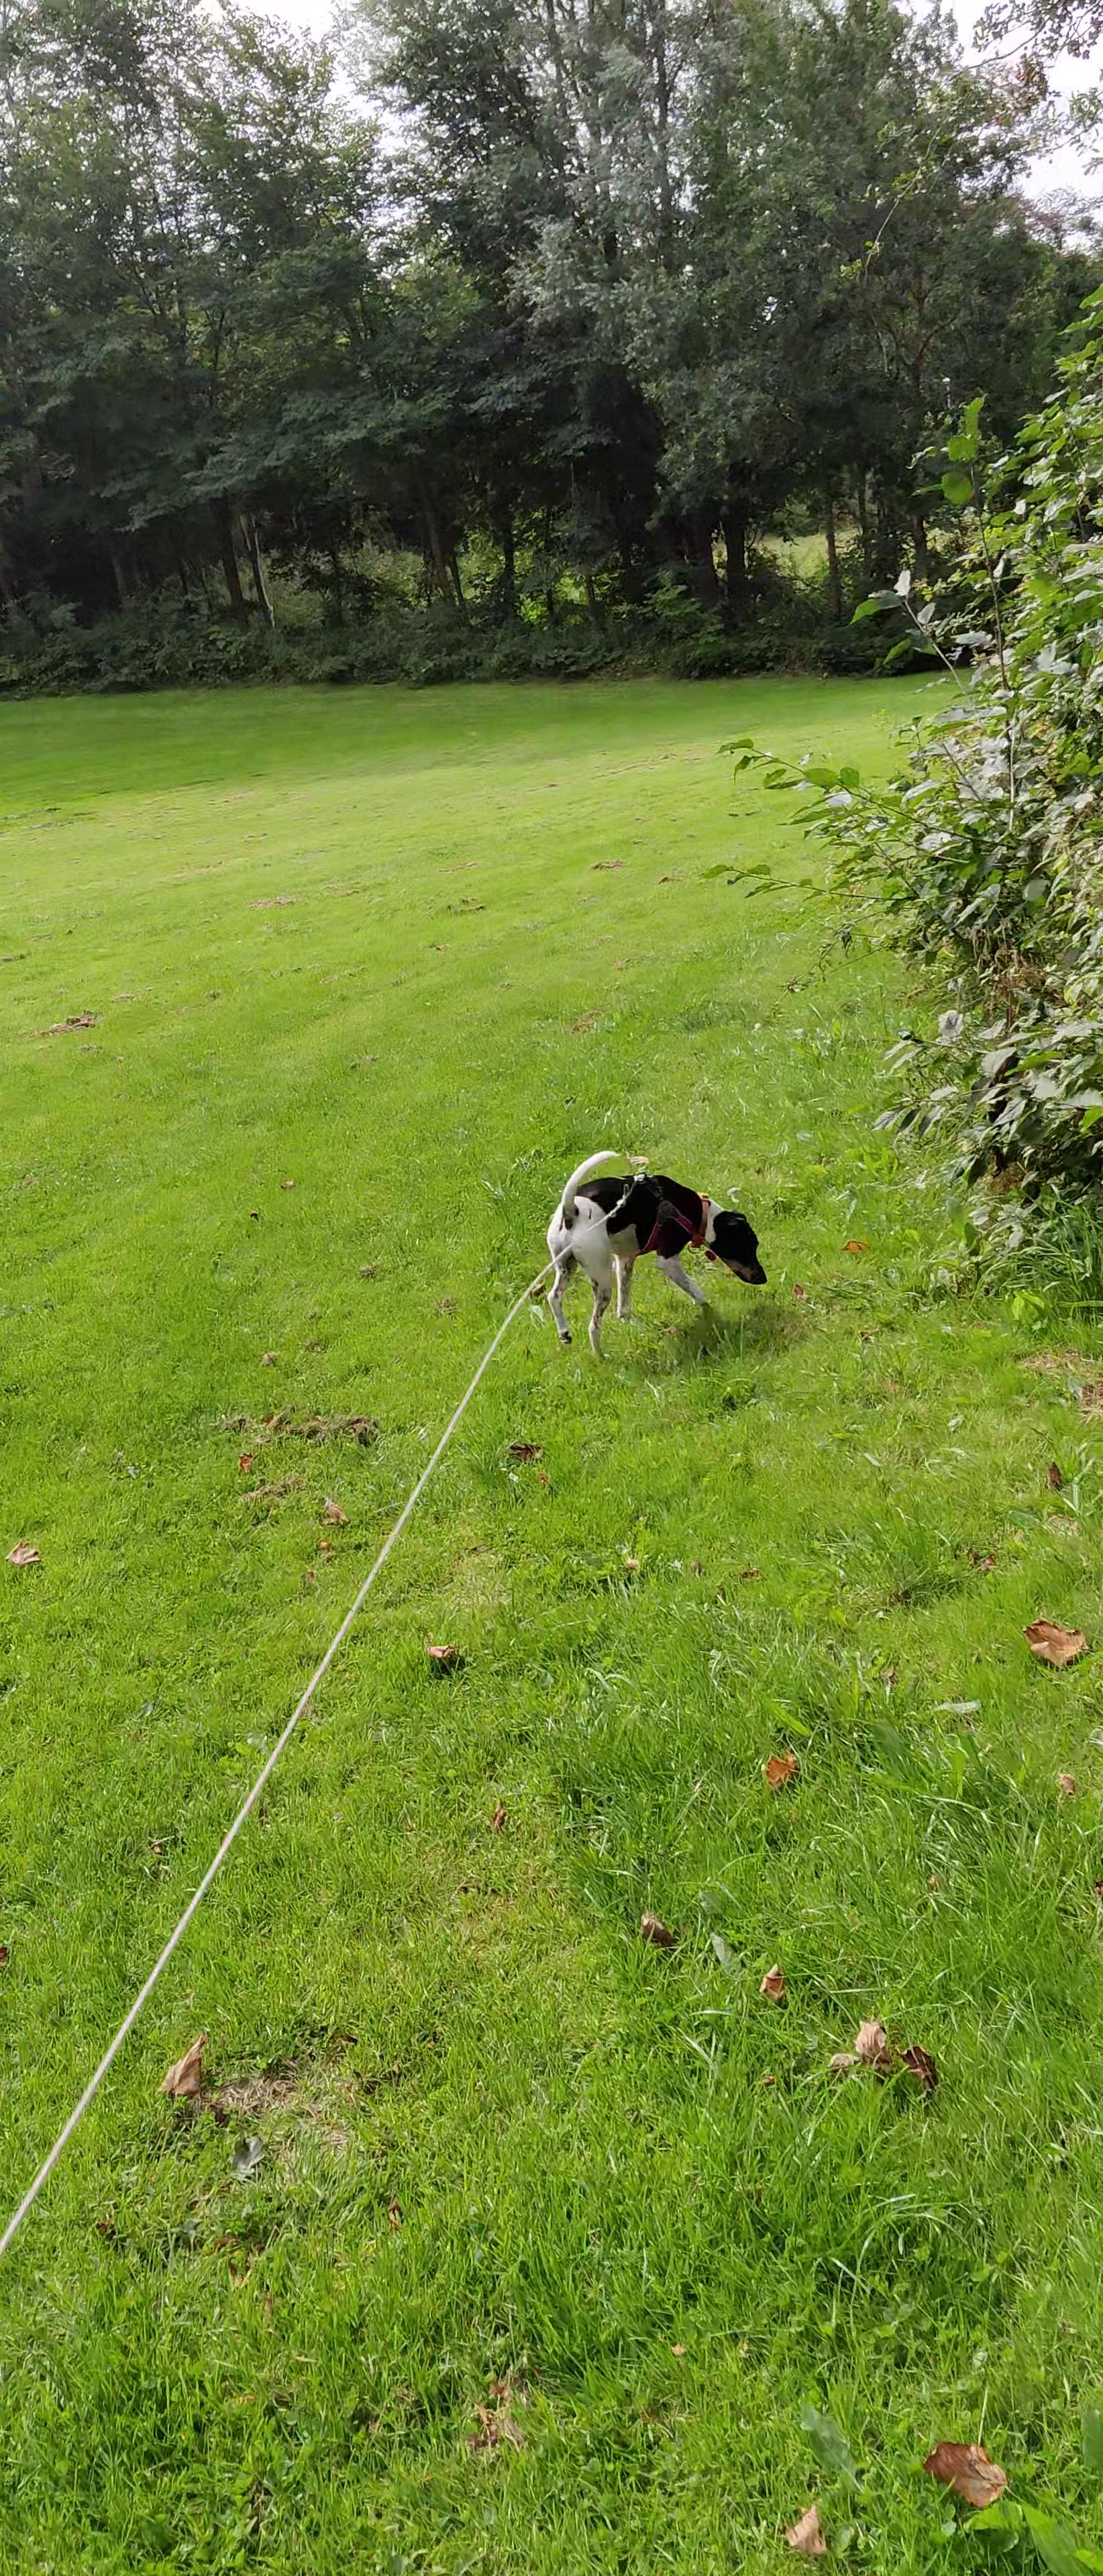Dog: (541, 1142, 773, 1362)
